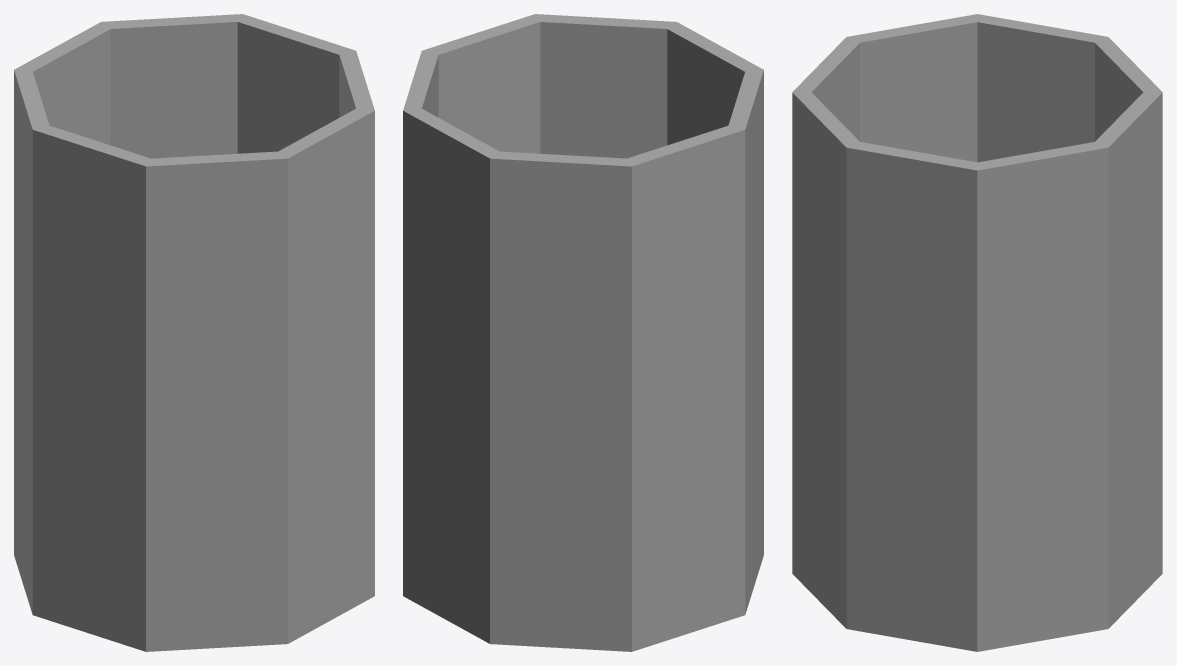
File: Cup_mini_6.fbx
The picture shows the model from 3 angles, left to right: view 1: azimuth 30°, elevation 25°; view 2: azimuth 150°, elevation 25°; view 3: azimuth 270°, elevation 25°; orthographic projection.
Visible parts, largest first — view 1: Cup_mini_6; view 2: Cup_mini_6; view 3: Cup_mini_6.
Boxes of the visible parts, x1=… form: Cup_mini_6: x1=14, y1=14, x2=374, y2=651; Cup_mini_6: x1=403, y1=14, x2=763, y2=651; Cup_mini_6: x1=792, y1=14, x2=1162, y2=651.
Size of the model in its own units: 2.42 by 3.47 by 2.42.
